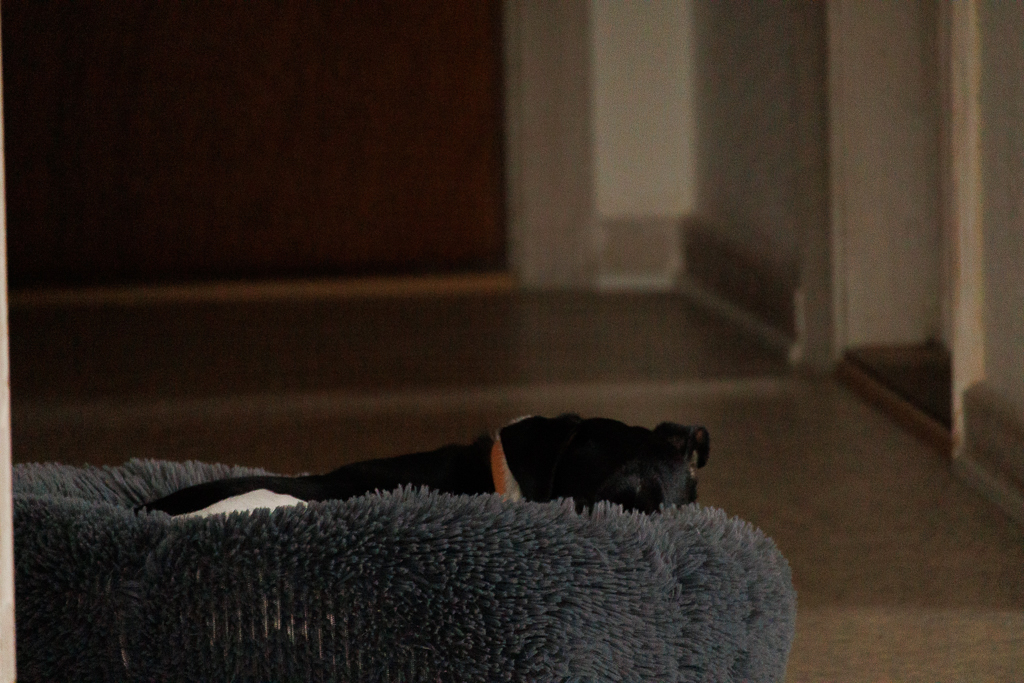Dog: (123, 399, 722, 543)
